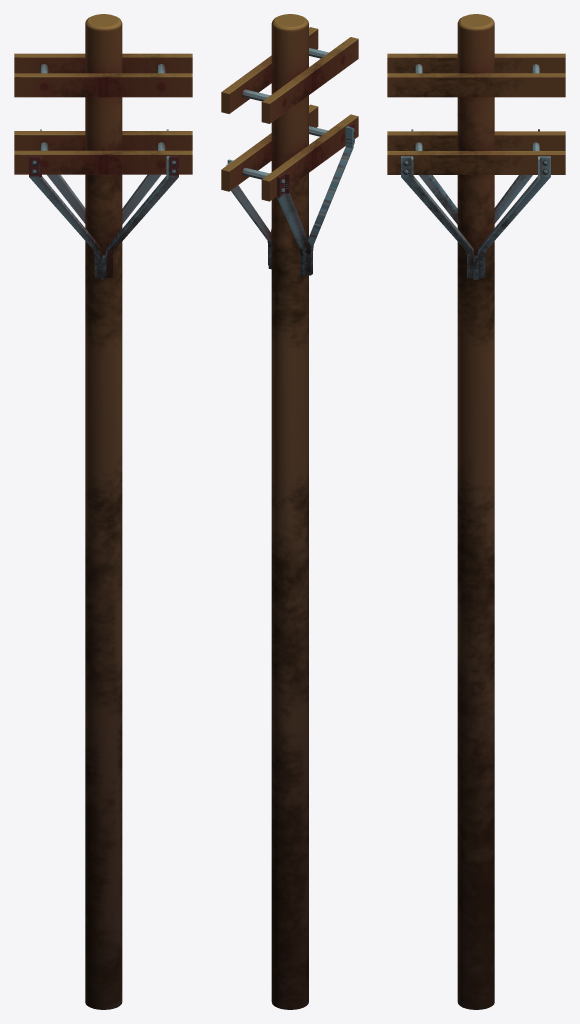
File: Pole1.glb
3 renders of one model, left to right at view 1: azimuth 90°, elevation 25°; view 2: azimuth 150°, elevation 25°; view 3: azimuth 270°, elevation 25°, orthographic.
Parts seen in each view (by area): view 1: Electric_Pole; view 2: Electric_Pole; view 3: Electric_Pole.
Boxes of the visible parts, x1,y1,x2,y2 form: Electric_Pole: (14, 14, 192, 1009); Electric_Pole: (221, 14, 358, 1009); Electric_Pole: (387, 14, 565, 1009).
Size of the model in its own units: 0.3981 by 6.08 by 1.
Materials: 1 (1 with a texture image).
